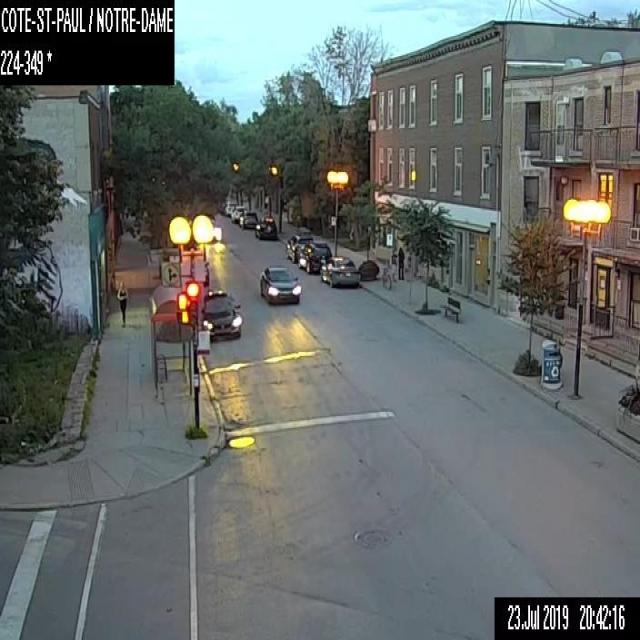pedestrian: (116, 280, 128, 328), (396, 245, 404, 279)
vehicle: (200, 288, 242, 341), (259, 263, 301, 304), (319, 254, 359, 286), (297, 241, 332, 272), (284, 234, 313, 261), (254, 216, 277, 238), (238, 210, 258, 228), (230, 205, 245, 221), (223, 201, 236, 215)
